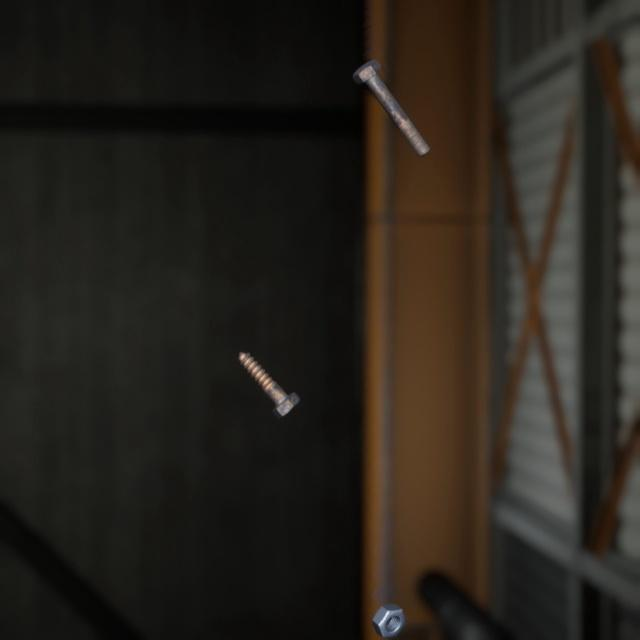bolt: (348, 44, 434, 150), (233, 328, 305, 403)
nut: (367, 577, 410, 619)
